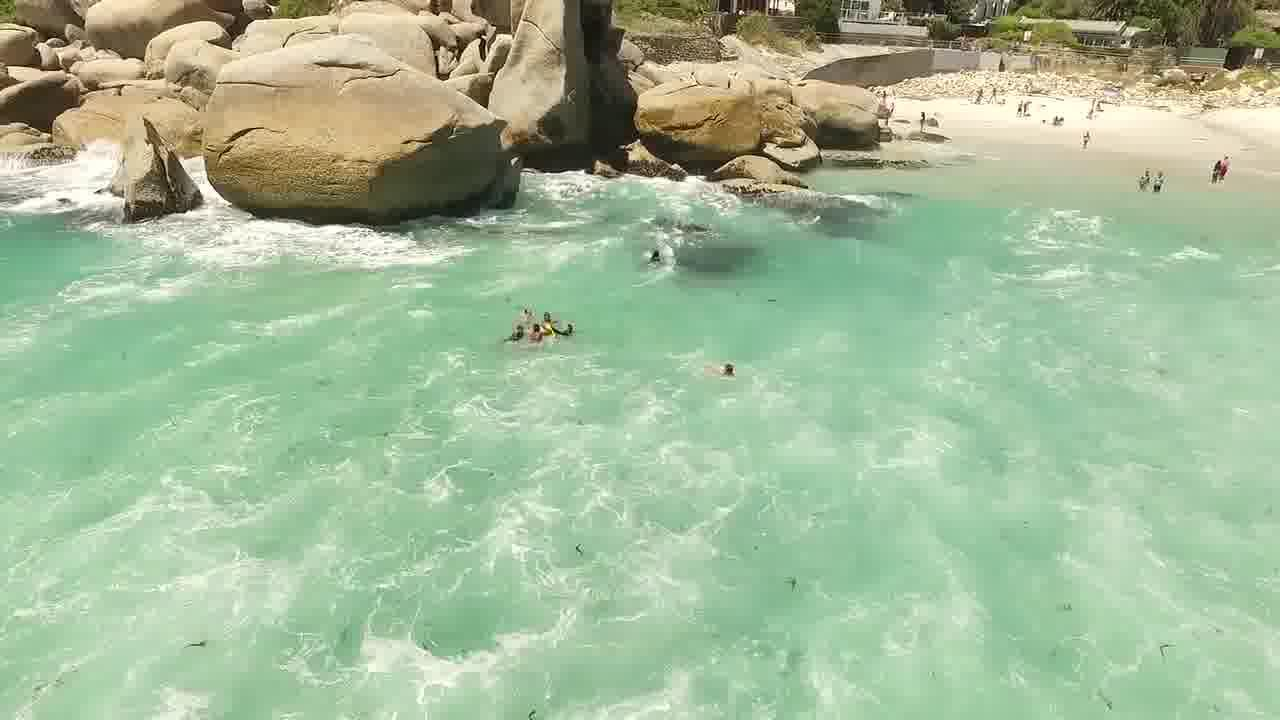swimmer: (496, 300, 577, 355), (707, 347, 754, 388), (637, 235, 676, 276), (1126, 161, 1172, 192), (1071, 122, 1096, 155)
